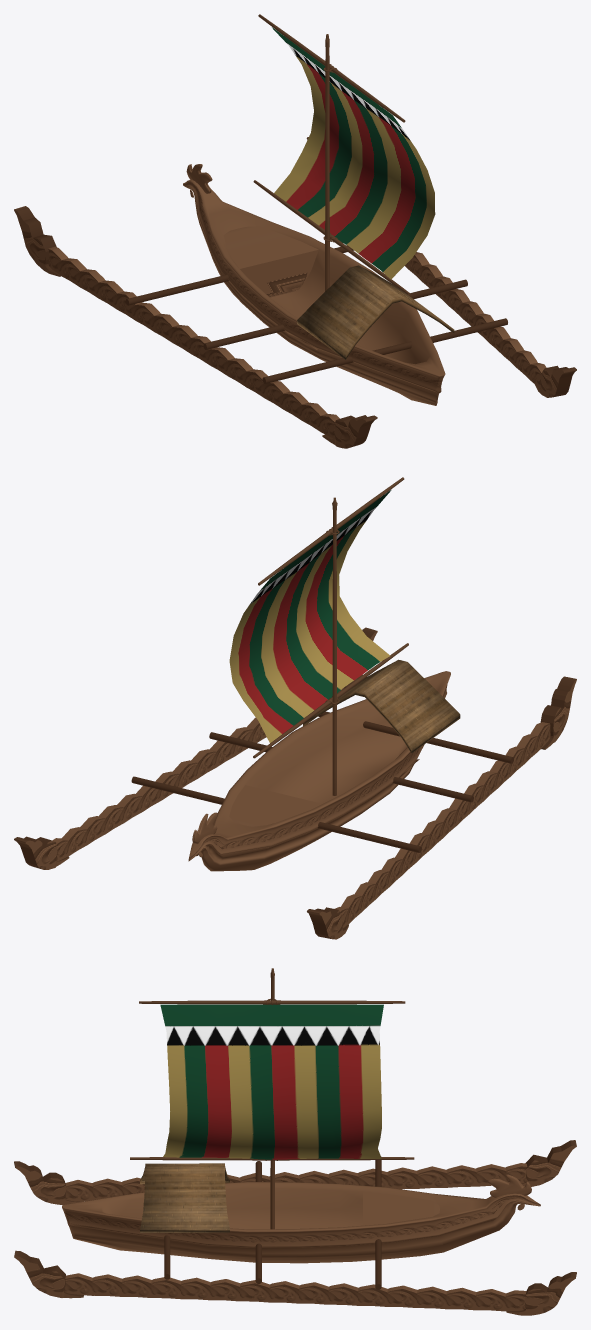
File: vinta.glb
3 renders of one model, top to bottom at view 1: azimuth 30°, elevation 25°; view 2: azimuth 150°, elevation 25°; view 3: azimuth 270°, elevation 25°, orthographic. The views are drawn at different scales.
Parts seen in each view (by area): view 1: vinta; view 2: vinta; view 3: vinta.
Boxes of the visible parts, x1,y1,x2,y2 form: vinta: [14, 14, 576, 448]; vinta: [14, 477, 576, 939]; vinta: [14, 968, 576, 1315].
Size of what is drawn, in the model's own units: 2.03 by 1.95 by 3.52.
3 materials, 3 textured.
